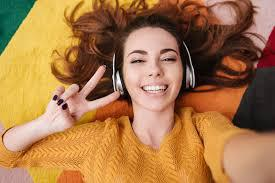face: (124, 28, 181, 110)
